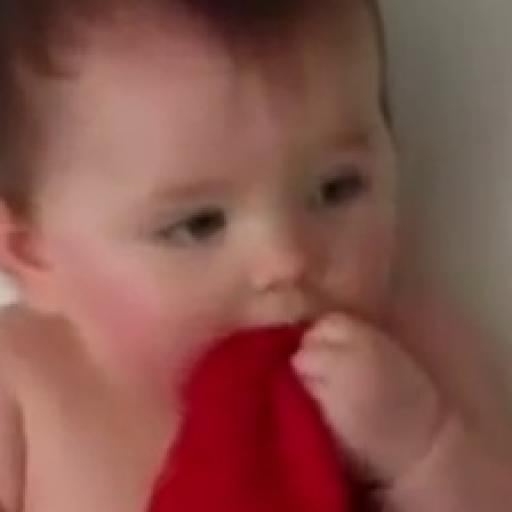Autism: (40, 8, 466, 456)
